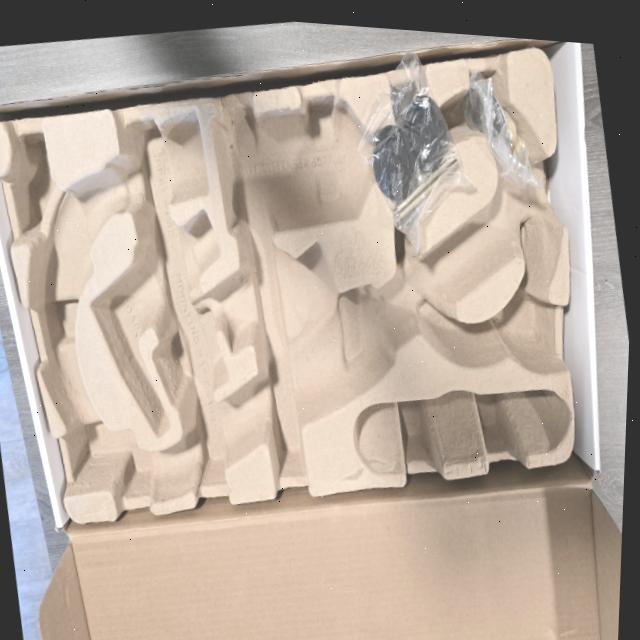1m: (33, 114, 566, 501)
2m: (93, 212, 219, 430)
3m: (217, 93, 388, 223)
4m: (352, 389, 571, 473)
5m: (504, 295, 551, 355)
6: (466, 67, 543, 195)
7: (356, 45, 477, 259)
